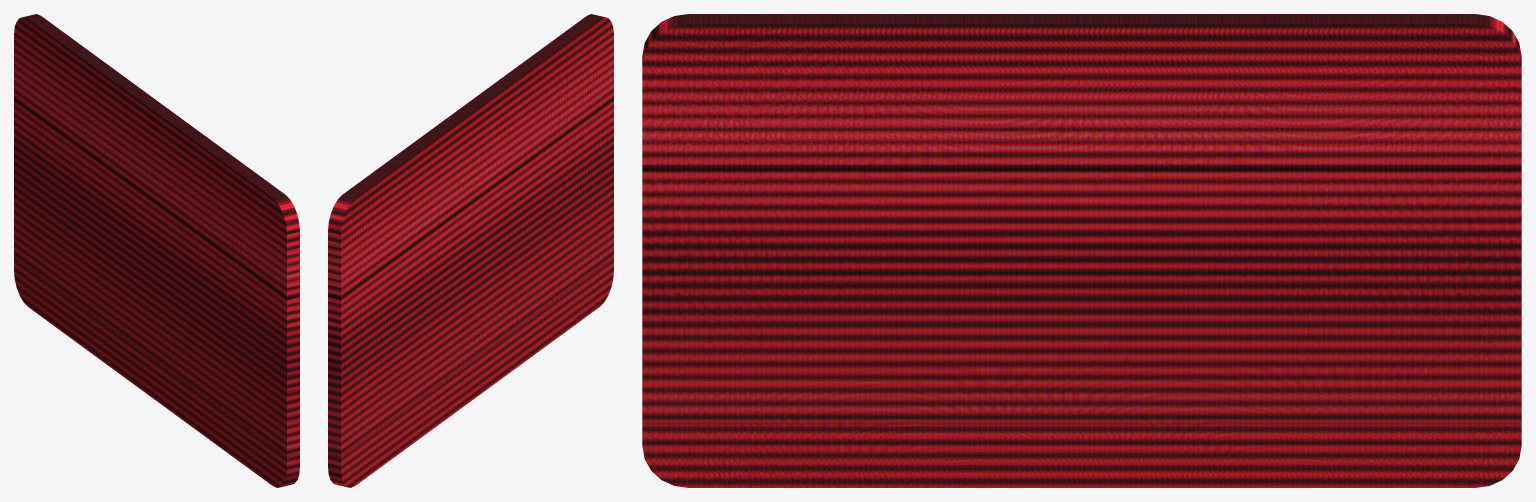
File: key-3.obj
3 views of the same model, side by side, from view 1: azimuth 30°, elevation 25°; view 2: azimuth 150°, elevation 25°; view 3: azimuth 270°, elevation 25° (orthographic). The views are drawn at different scales.
Parts seen in each view (by area): view 1: pCube1; view 2: pCube1; view 3: pCube1.
Boxes of the visible parts, <box> form: pCube1: <box>14,14,299,487</box>; pCube1: <box>328,14,613,487</box>; pCube1: <box>642,14,1521,487</box>.
Bounding box in the file's own units: 0.1227 × 2.6 × 4.47.
Materials: 1 (1 with a texture image).
